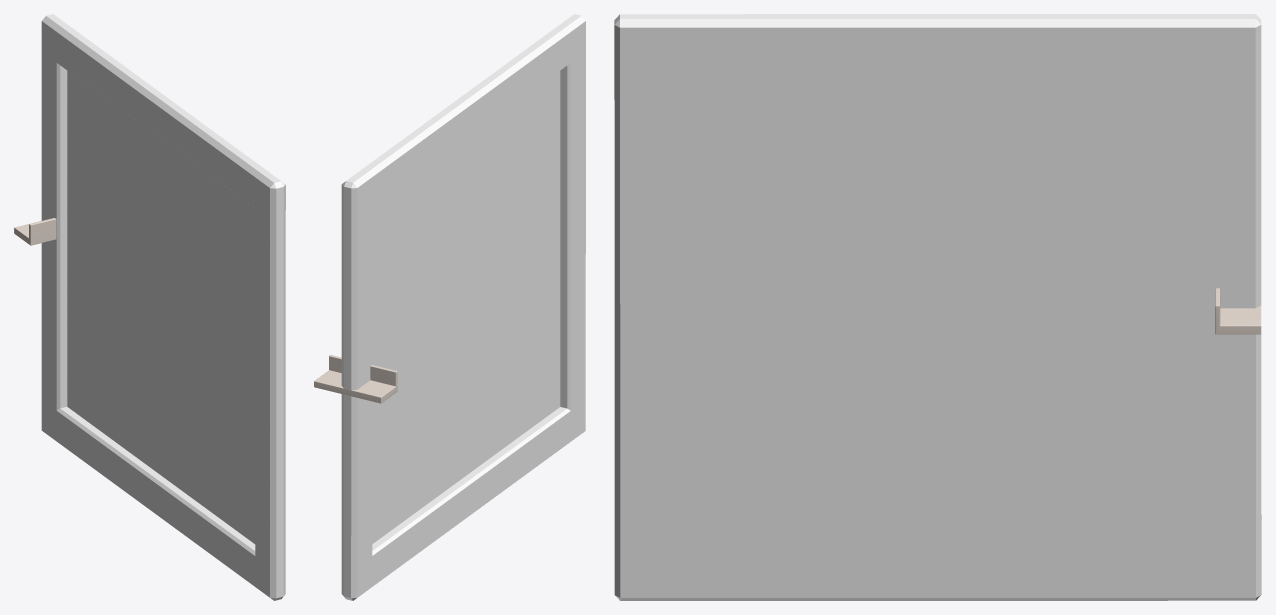
File: Cabinet_e09323fb.obj
3 renders of one model, left to right at view 1: azimuth 30°, elevation 25°; view 2: azimuth 150°, elevation 25°; view 3: azimuth 270°, elevation 25°, orthographic. The views are drawn at different scales.
Parts seen in each view (by area): view 1: Mesh_6702fdef, handle_3_76mm_01_aef8309d; view 2: Mesh_6702fdef, handle_3_76mm_01_aef8309d; view 3: Mesh_6702fdef, handle_3_76mm_01_aef8309d.
Boxes of the visible parts, x1,y1,x2,y2 form: Mesh_6702fdef: (41, 14, 285, 600); handle_3_76mm_01_aef8309d: (14, 218, 56, 245); Mesh_6702fdef: (341, 14, 585, 600); handle_3_76mm_01_aef8309d: (314, 355, 397, 403); Mesh_6702fdef: (614, 14, 1261, 600); handle_3_76mm_01_aef8309d: (1215, 288, 1261, 334).
Size of the model in its own units: 0.076 by 0.4514 by 0.4548.
